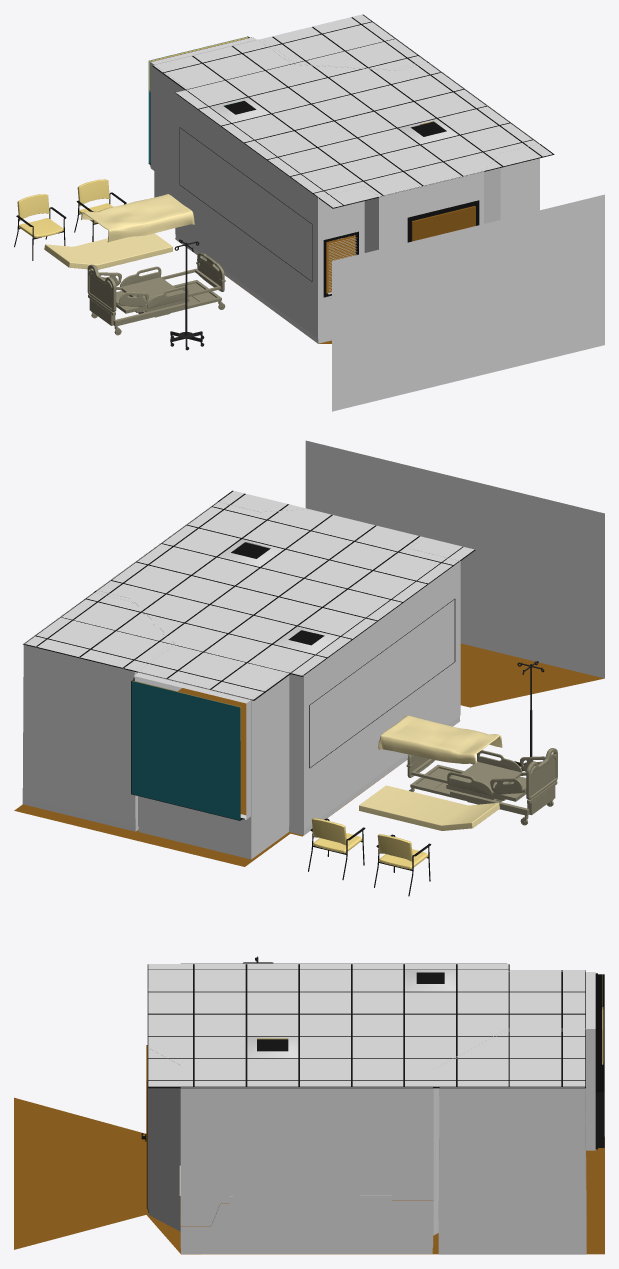
File: Room_Tex.obj
3 views of the same model, one above another, from view 1: azimuth 30°, elevation 25°; view 2: azimuth 150°, elevation 25°; view 3: azimuth 270°, elevation 25° (orthographic). The views are drawn at different scales.
Visible parts, largest first — view 1: Room Floor, Room Ceiling, Room Walls, Room Bed Bed, Room Bed Blanket, Room Bed Mattress, Room Chair2, Room Door_Entrance, Room Chair1, IVstand Room; view 2: Room Walls, Room Ceiling, Room Floor, Room Bed Bed, Room Bed Blanket, Room Bed Mattress, Room Chair2, Room Chair1; view 3: Room Walls, Room Ceiling, Room Floor.
Boxes of the visible parts, <box> form: Room Floor: <box>175,194,604,411</box>; Room Ceiling: <box>152,14,554,208</box>; Room Walls: <box>148,14,539,343</box>; Room Bed Bed: <box>87,253,225,335</box>; Room Bed Blanket: <box>81,194,194,242</box>; Room Bed Mattress: <box>44,233,172,269</box>; Room Chair2: <box>14,194,66,260</box>; Room Door_Entrance: <box>411,210,459,241</box>; Room Chair1: <box>74,179,126,241</box>; IVstand Room: <box>170,239,204,350</box>; Room Walls: <box>22,501,460,859</box>; Room Ceiling: <box>23,490,475,700</box>; Room Floor: <box>14,440,604,866</box>; Room Bed Bed: <box>406,748,557,825</box>; Room Bed Blanket: <box>378,715,502,763</box>; Room Bed Mattress: <box>359,785,499,830</box>; Room Chair2: <box>374,834,431,896</box>; Room Chair1: <box>308,818,365,879</box>; Room Walls: <box>146,963,604,1254</box>; Room Ceiling: <box>147,964,585,1088</box>; Room Floor: <box>14,1097,604,1254</box>.
Bounding box in the file's own units: 718 × 280 × 871.
